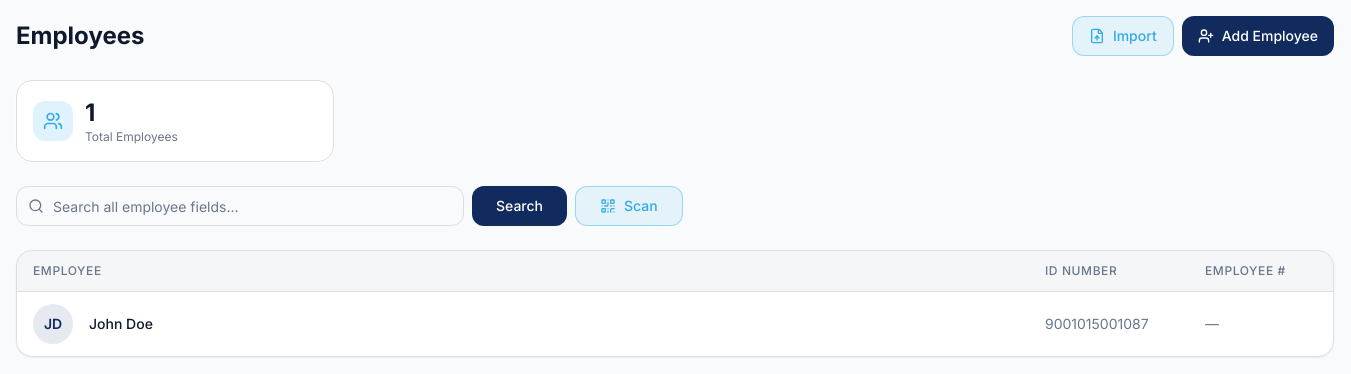
EmployeeListPage search › submits unrestricted field text using button, without searching while typing
Step 1. Type "  Cape Town Logistics  " into the field labelled "Search all employee fields" → (240, 206), box [16,186,464,226]
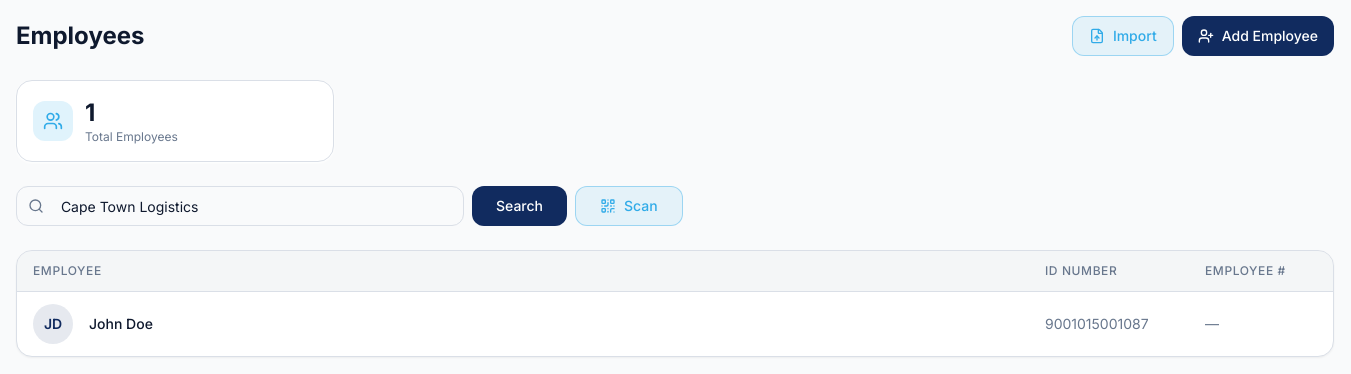
Step 2. Click the button "Search" → (520, 206), box [472,186,567,226]
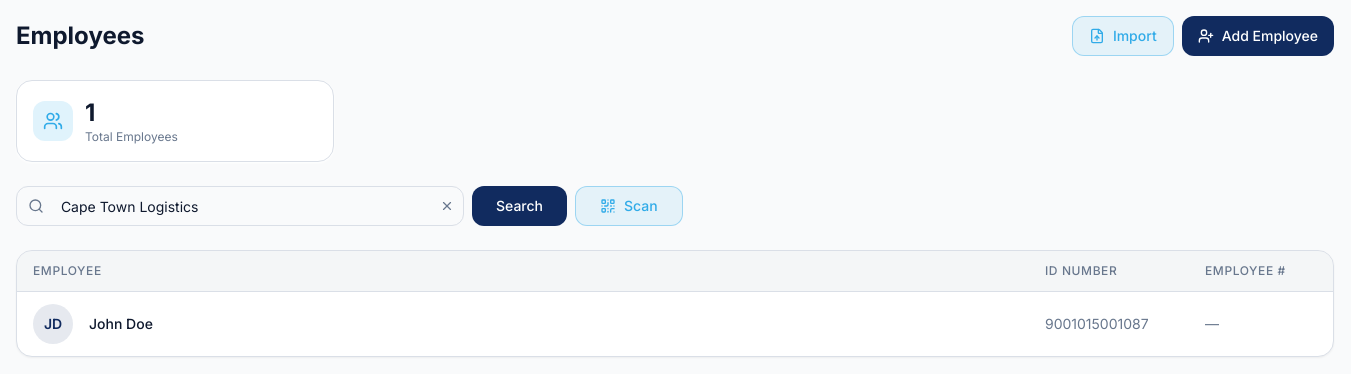
Step 3. Click the button named "Clear filter" → (447, 206), box [438,197,456,215]
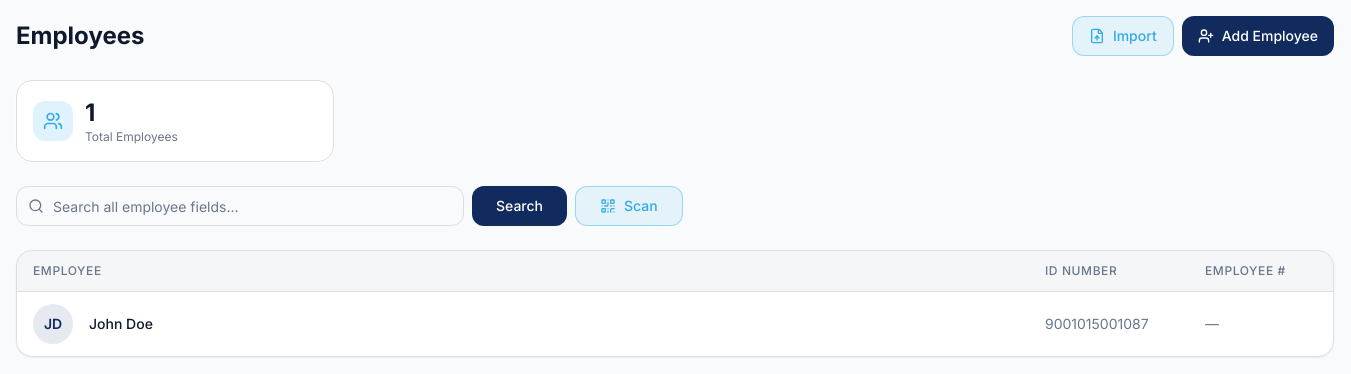
Expected: the text "John Doe" is shown, [89,315,153,332]
Expected: the field labelled "Search all employee fields" is empty, [16,186,464,226]
